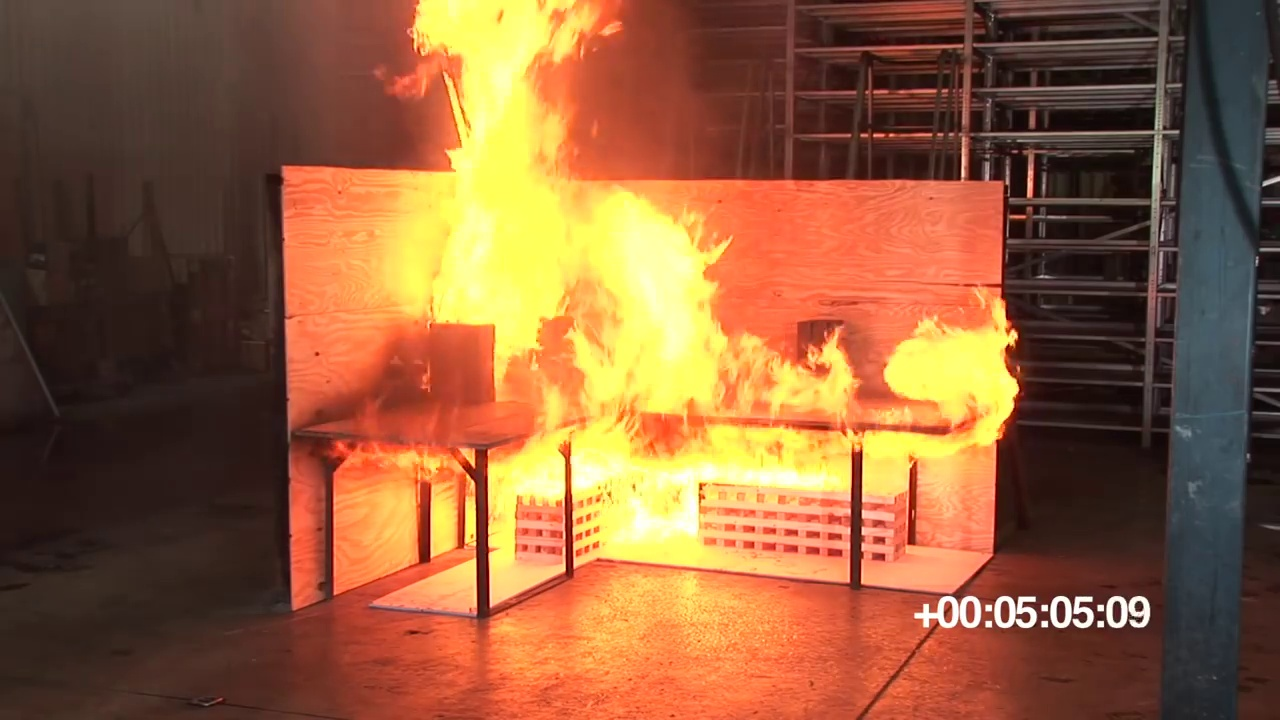fire: (565, 188, 853, 419), (409, 1, 601, 326), (462, 425, 832, 552), (889, 316, 1017, 428)
